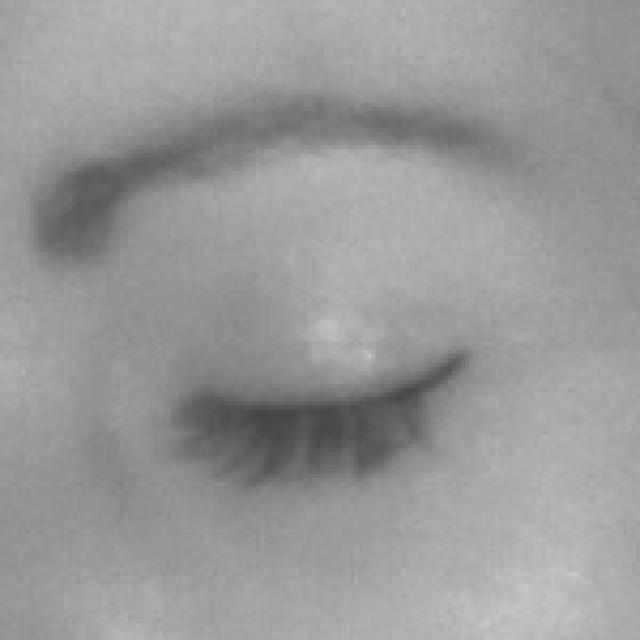close: (20, 61, 630, 621)
